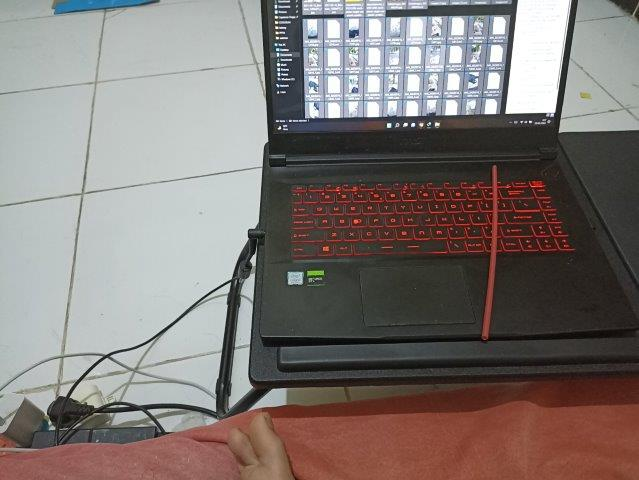sedotan: (482, 166, 497, 339)
